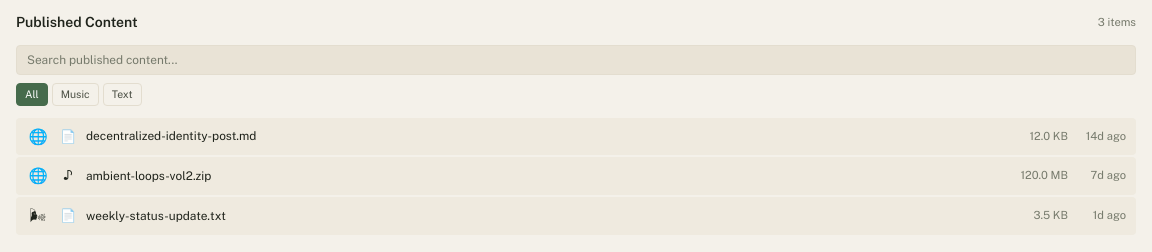
Scenario: PublishedView › combines search and category filters
Filter to text category
Click the button "Text". click: (122, 95)
box: [103, 83, 142, 106]
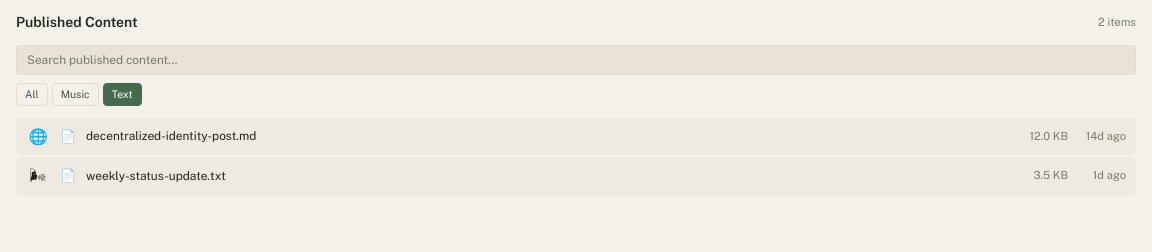
Expected: the text "decentralized-identity-post.md" is shown, [86, 129, 256, 143]
Expected: the text "weekly-status-update.txt" is shown, [86, 169, 226, 183]
Now search for "weekly"
Type "weekly" into the search field. click: (576, 60)
box: [16, 45, 1136, 75]
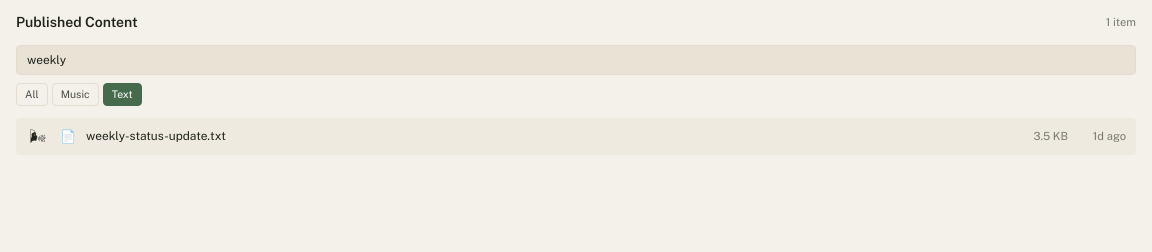
Expected: the text "weekly-status-update.txt" is shown, [86, 129, 226, 143]
Expected: the text "decentralized-identity-post.md" is gone
